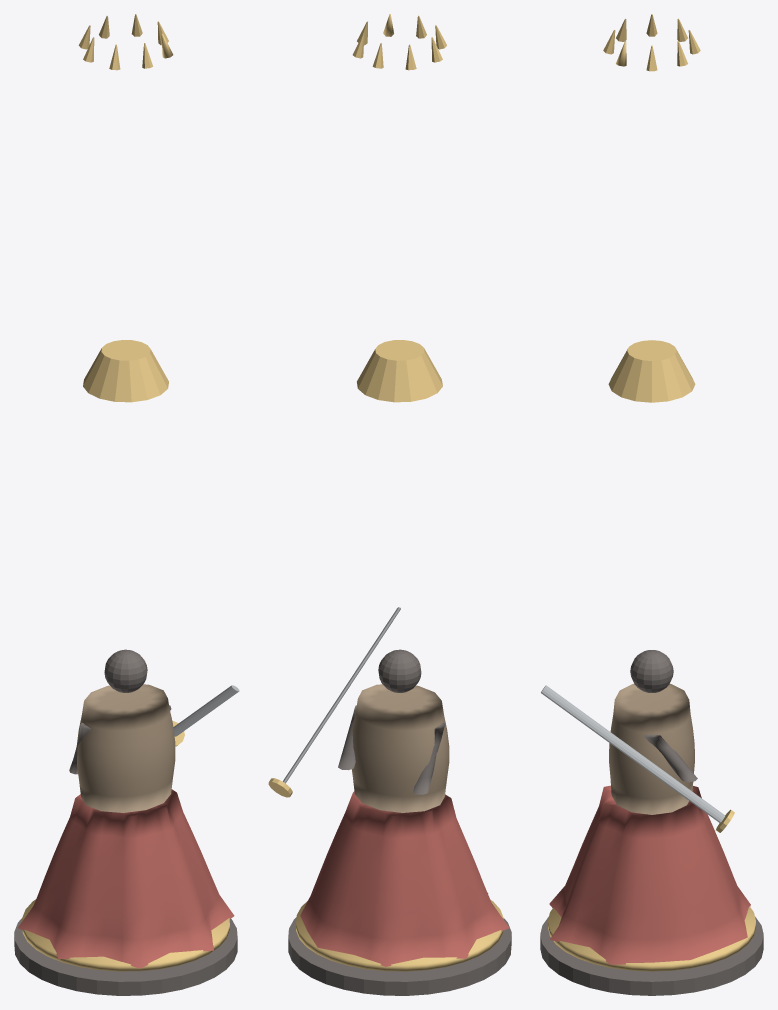
3 renders of one model, left to right at view 1: azimuth 30°, elevation 25°; view 2: azimuth 150°, elevation 25°; view 3: azimuth 270°, elevation 25°, orthographic.
Parts seen in each view (by area): view 1: Samrajni_Gown, Samrajni_Torso, Plinth_Stone, Samrajni_Crown, Plinth_GoldRim, Samrajni_Head, Samrajni_TalwarBlade; view 2: Samrajni_Gown, Samrajni_Torso, Plinth_Stone, Samrajni_Crown, Plinth_GoldRim, Samrajni_Head, Samrajni_TalwarBlade, Samrajni_LeftArm; view 3: Samrajni_Gown, Samrajni_Torso, Plinth_Stone, Samrajni_Crown, Plinth_GoldRim, Samrajni_TalwarBlade, Samrajni_Head, Samrajni_RightArm.
Part boxes in pixels (bbox=[...]): Samrajni_Gown: bbox=[18, 789, 234, 968]; Samrajni_Torso: bbox=[76, 684, 175, 812]; Plinth_Stone: bbox=[14, 918, 237, 995]; Samrajni_Crown: bbox=[83, 340, 168, 402]; Plinth_GoldRim: bbox=[22, 899, 229, 971]; Samrajni_Head: bbox=[104, 649, 147, 692]; Samrajni_TalwarBlade: bbox=[173, 685, 239, 736]; Samrajni_Gown: bbox=[300, 791, 509, 966]; Samrajni_Torso: bbox=[351, 684, 449, 812]; Plinth_Stone: bbox=[288, 917, 511, 995]; Samrajni_Crown: bbox=[357, 340, 442, 402]; Plinth_GoldRim: bbox=[296, 899, 503, 971]; Samrajni_Head: bbox=[378, 649, 421, 692]; Samrajni_TalwarBlade: bbox=[283, 607, 400, 783]; Samrajni_LeftArm: bbox=[413, 723, 445, 794]; Samrajni_Gown: bbox=[549, 785, 750, 964]; Samrajni_Torso: bbox=[609, 683, 694, 814]; Plinth_Stone: bbox=[540, 916, 763, 995]; Samrajni_Crown: bbox=[608, 340, 695, 402]; Plinth_GoldRim: bbox=[548, 906, 755, 971]; Samrajni_TalwarBlade: bbox=[541, 685, 725, 823]; Samrajni_Head: bbox=[630, 650, 673, 692]; Samrajni_RightArm: bbox=[643, 735, 697, 782].
Bounding box in the file's own units: 0.72 × 3.26 × 0.72.
